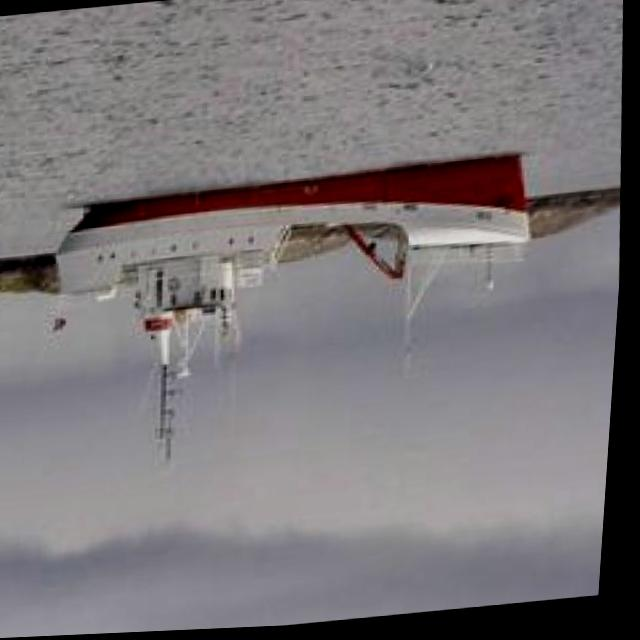ship2: (60, 157, 536, 466)
